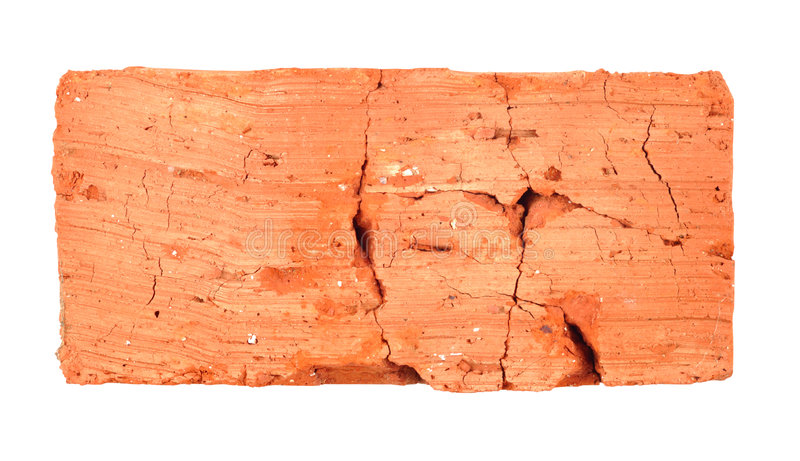brick: (58, 69, 733, 384)
